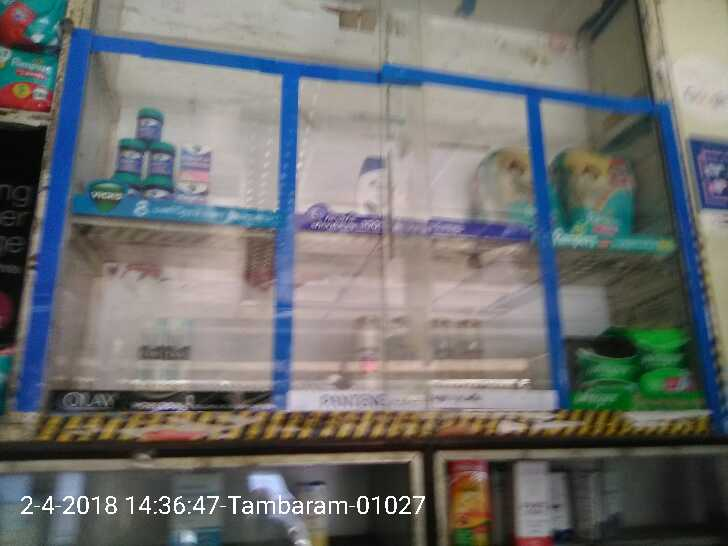vicks: (109, 104, 214, 202)
